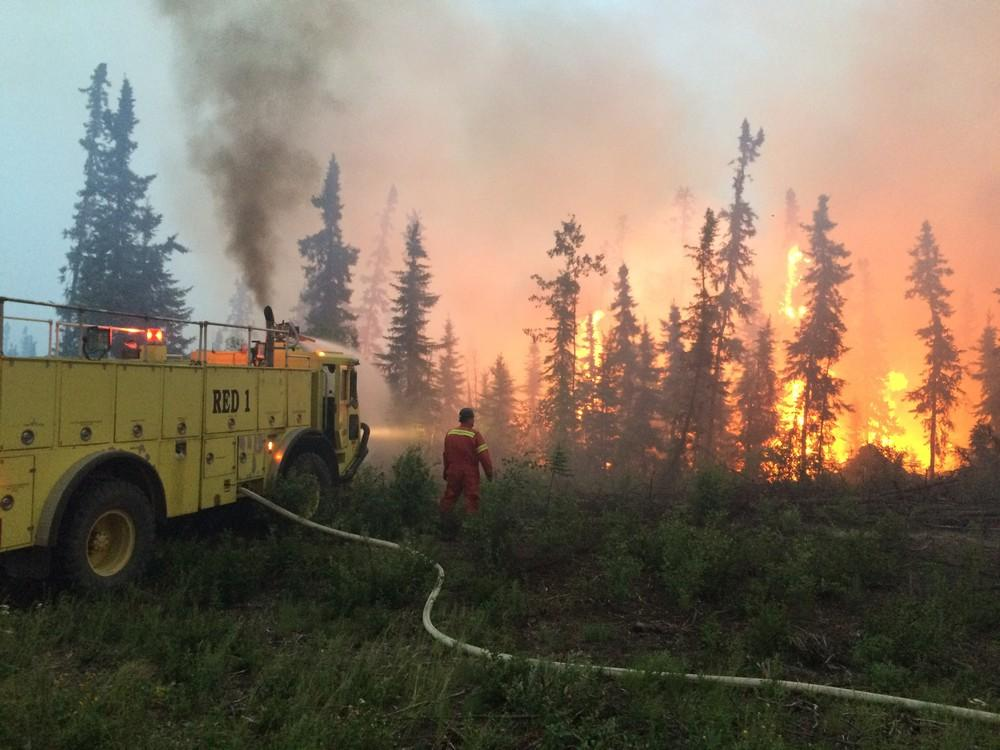smoke: (163, 5, 363, 303)
